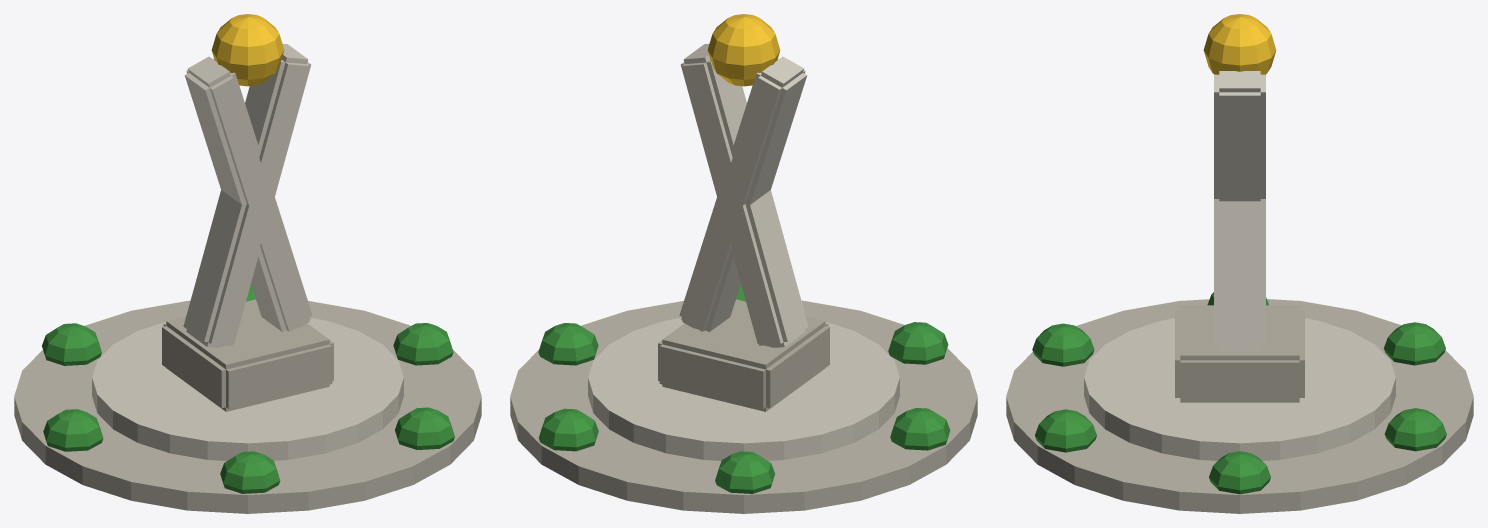
Rendered from monument.glb.
3 renders of one model, left to right at view 1: azimuth 30°, elevation 25°; view 2: azimuth 150°, elevation 25°; view 3: azimuth 270°, elevation 25°, orthographic.
Parts seen in each view (by area): view 1: monument; view 2: monument; view 3: monument.
Boxes of the visible parts, x1=… form: monument: x1=14, y1=14, x2=481, y2=513; monument: x1=510, y1=14, x2=977, y2=513; monument: x1=1006, y1=14, x2=1473, y2=513.
Size of the model in its own units: 1.8 by 1.69 by 1.8.
